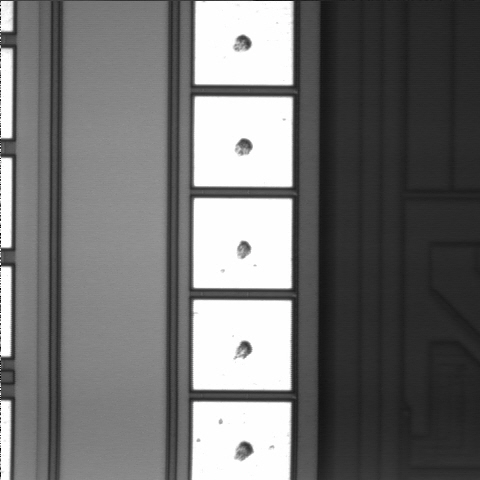pad: (193, 198, 292, 288), (194, 97, 292, 187), (193, 300, 291, 390)
